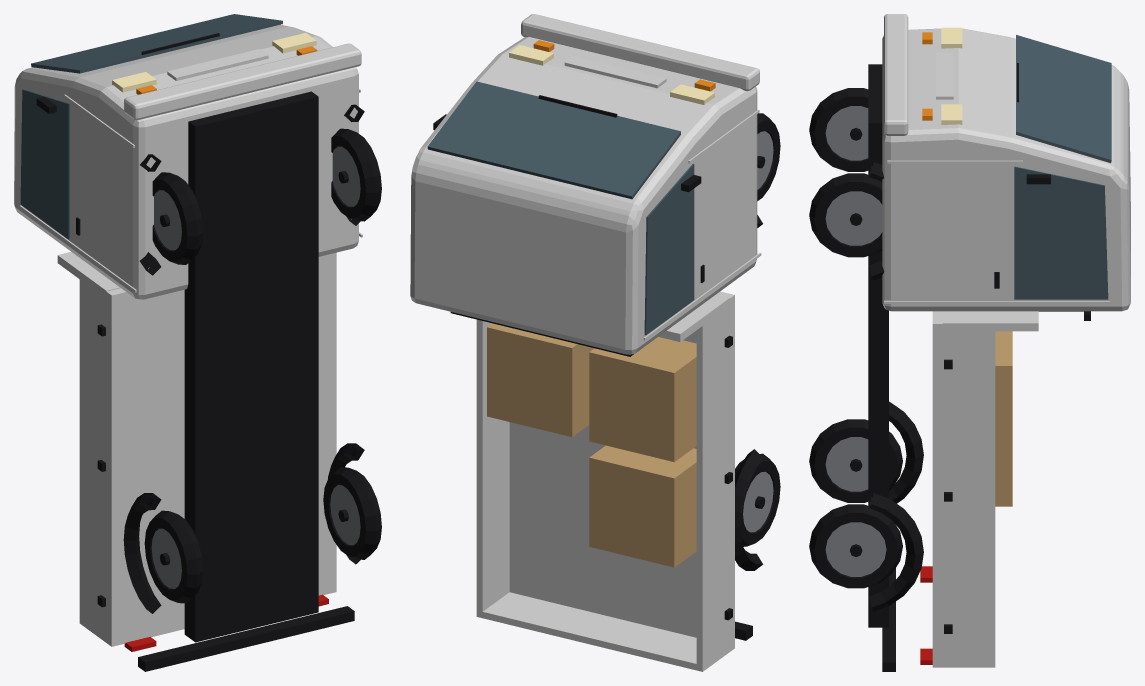
Rendered from SolarpunkKeiTruck01.fbx.
3 renders of one model, left to right at view 1: azimuth 30°, elevation 25°; view 2: azimuth 150°, elevation 25°; view 3: azimuth 270°, elevation 25°, orthographic. The views are drawn at different scales.
Parts seen in each view (by area): view 1: SolarpunkKeiTruck01; view 2: SolarpunkKeiTruck01; view 3: SolarpunkKeiTruck01.
Boxes of the visible parts, x1=… form: SolarpunkKeiTruck01: x1=14, y1=14, x2=381, y2=671; SolarpunkKeiTruck01: x1=410, y1=14, x2=780, y2=671; SolarpunkKeiTruck01: x1=809, y1=14, x2=1130, y2=671.
Bounding box in the file's own units: 165 × 352 × 185.
1 material, 1 textured.
